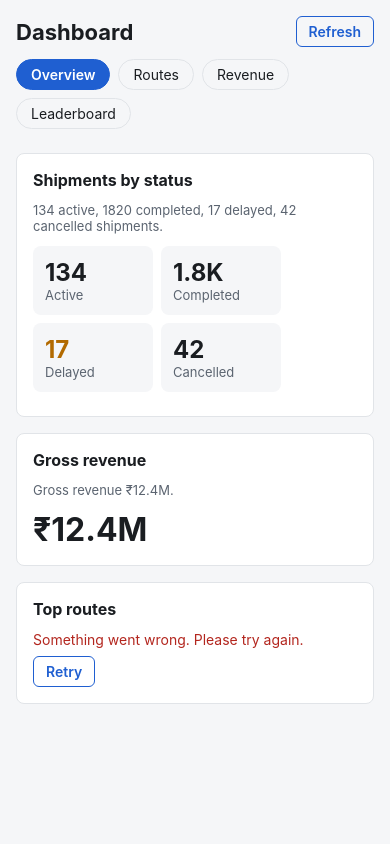
Scenario: DashboardOverview › retries a failed widget without refetching its healthy siblings
Click the button with test id "widget-top-routes-retry" at coordinates (64, 672), box [33, 656, 95, 687]
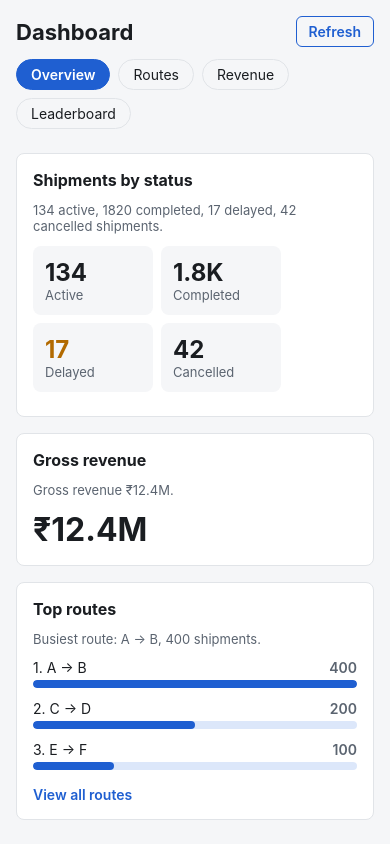
Now the element with test id "top-routes-preview" is shown, box [33, 659, 357, 782]
